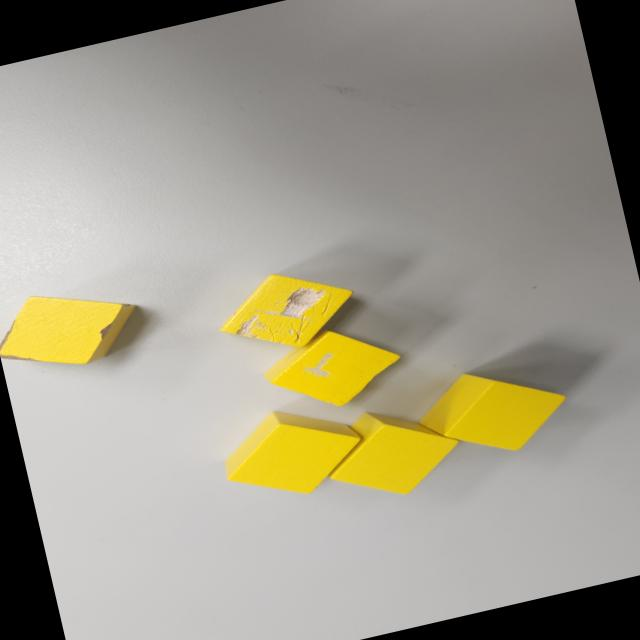broken: (207, 256, 363, 366), (255, 314, 410, 423), (0, 271, 149, 384)
yellow: (408, 350, 576, 472), (214, 390, 372, 512), (316, 392, 468, 512)
